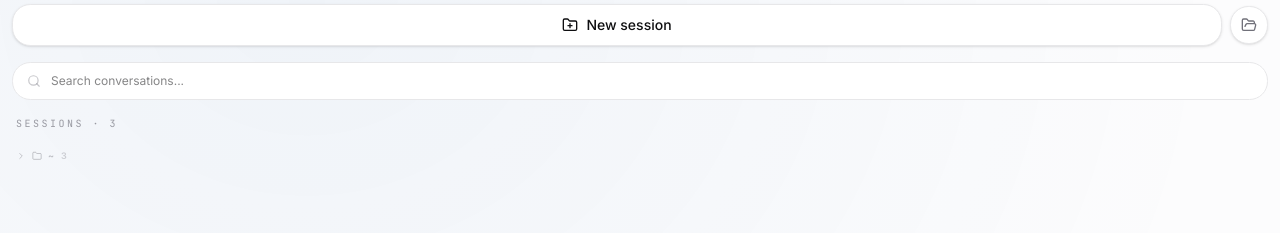
Test: ConversationSearch › filters sessions by lastMessage content
The width and height of the screenshot is (1280, 233).
Step 1. Type "Best practices" into the field with placeholder "Search conversations..." → (652, 81), box [51,73,1253,89]
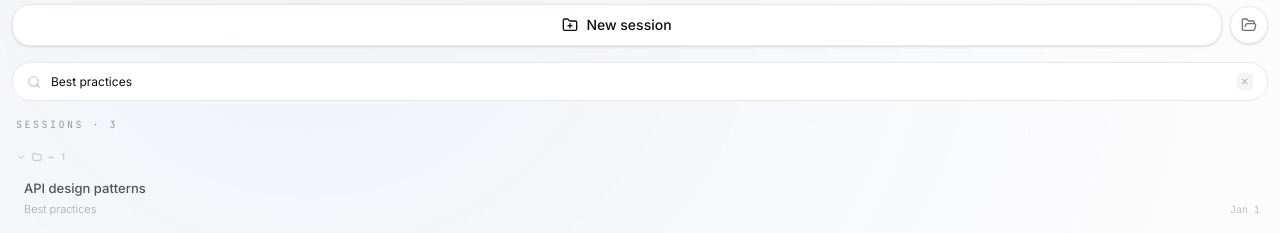
Expected: the text "API design patterns" is shown, [24,180,146,197]
